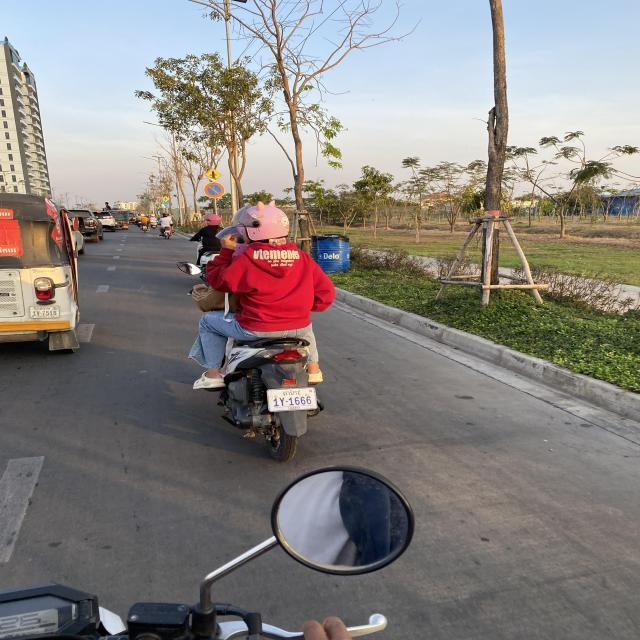Takeo: (281, 389, 302, 396)
